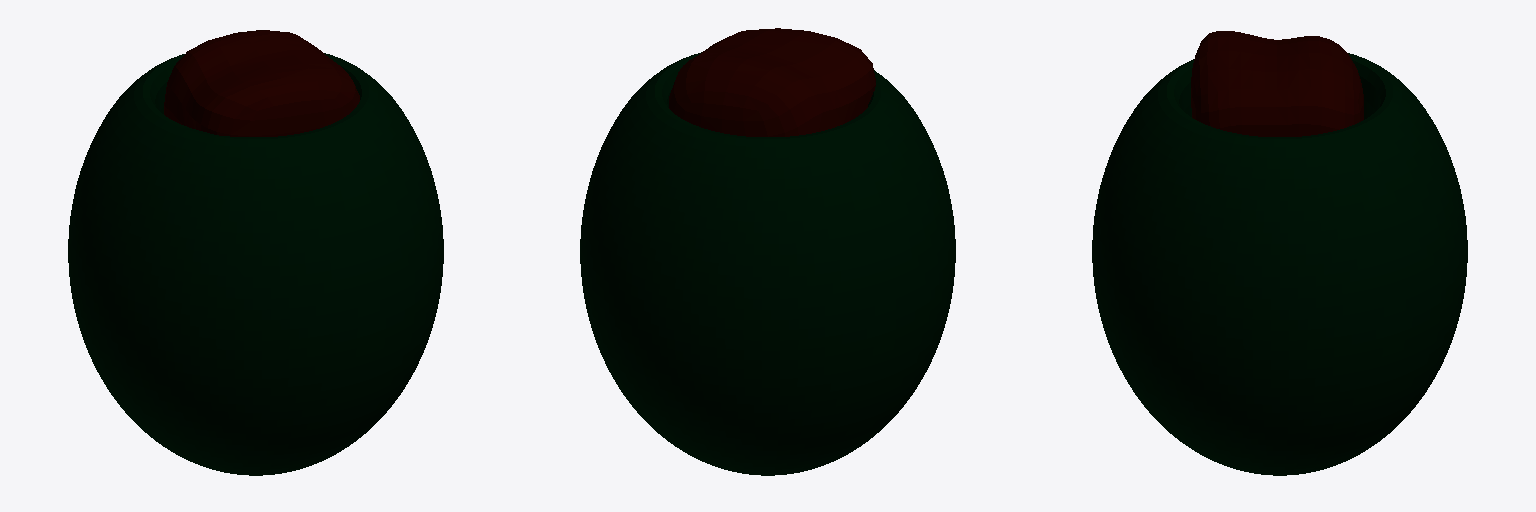
The model's file is Olive1.obj.
3 views of the same model, side by side, from view 1: azimuth 30°, elevation 25°; view 2: azimuth 150°, elevation 25°; view 3: azimuth 270°, elevation 25° (orthographic).
Visible parts, largest first — view 1: Sphere, Cube_Cube.001; view 2: Sphere, Cube_Cube.001; view 3: Sphere, Cube_Cube.001.
Boxes of the visible parts, box(x1,y1,x2,y2) form: Sphere: box(68, 53, 443, 475); Cube_Cube.001: box(164, 30, 359, 136); Sphere: box(580, 52, 955, 475); Cube_Cube.001: box(669, 28, 875, 136); Sphere: box(1092, 53, 1467, 475); Cube_Cube.001: box(1191, 31, 1363, 136).
Size of the model in its own units: 1.98 by 2.39 by 1.98.